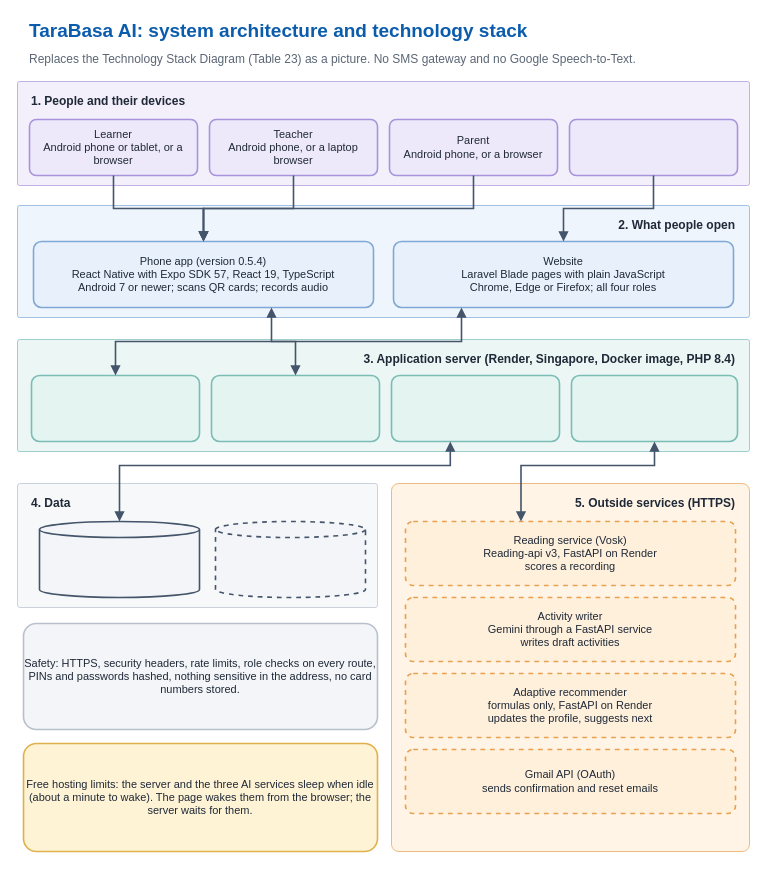
The diagram is 767 pixels wide and 869 high, and some of its shapes have lost their labels. Here are the shapes that lost their labels. From the top down, the centre of each, then its label:
point (653, 147): Admin Laptop browser (website only)
point (115, 408): Laravel 13 web pages and forms session sign in
point (295, 408): JSON API for the phone Sanctum tokens token fence by role
point (475, 408): Rule engine (services) progression, patterns, fit, alerts, word bank
point (654, 408): Background worker queue in the database writes AI drafts
point (119, 559): TiDB Cloud Starter MySQL compatible AWS Singapore
point (290, 559): SQLite only on a developer's computer
